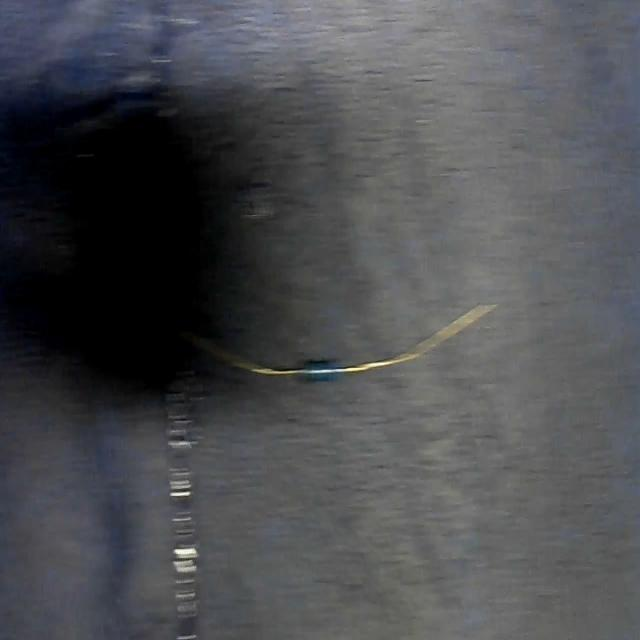resistor: (171, 310, 489, 386)
